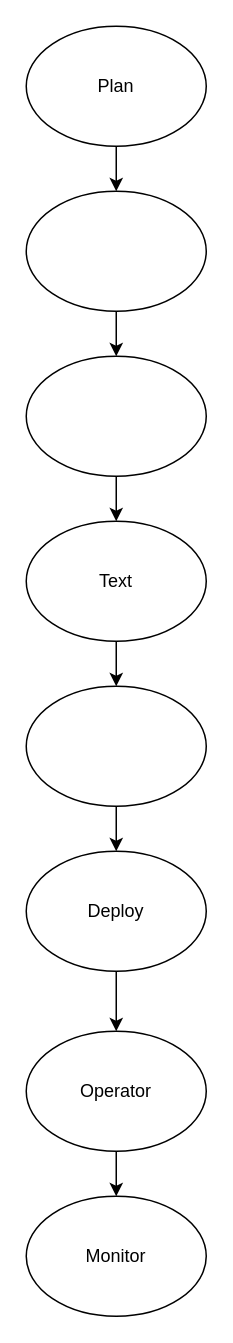
This 233x1343 diagram has some shape labels left out. The shapes that lost their labels are listed below. From the top down, each one's centre as x and y in pixels, then its label:
the point at 115,250: Devop
the point at 115,415: Build
the point at 115,745: Release
